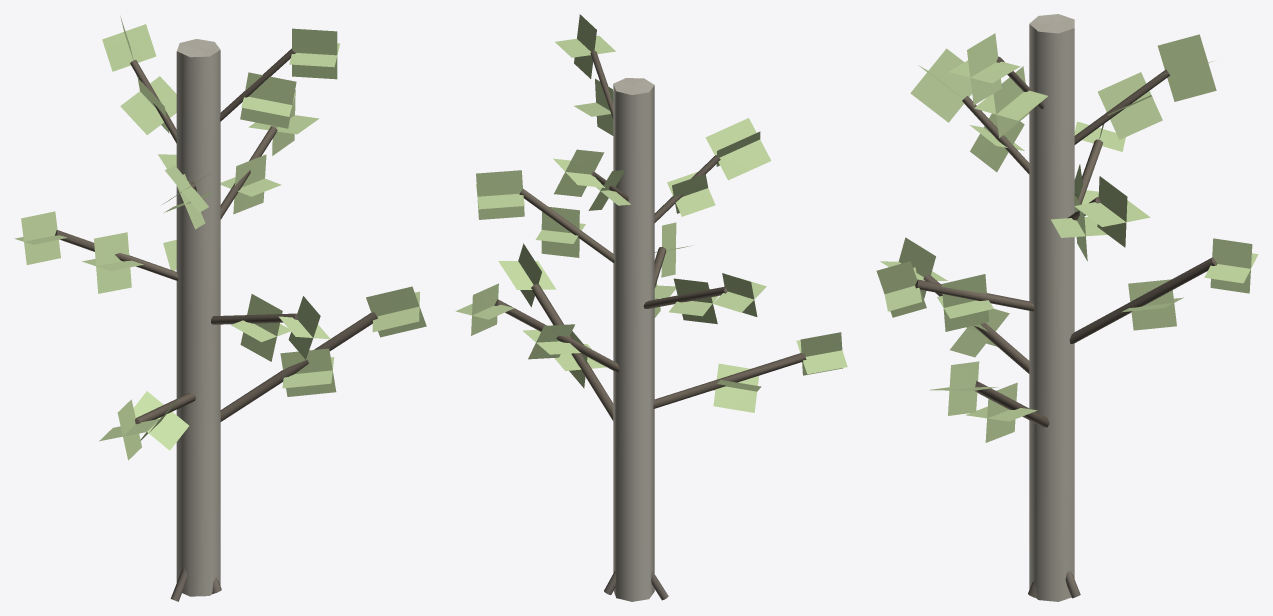
The model's file is small-lod2.glb.
The picture shows the model from 3 angles, left to right: view 1: azimuth 30°, elevation 25°; view 2: azimuth 150°, elevation 25°; view 3: azimuth 270°, elevation 25°; orthographic projection. The views are drawn at different scales.
Parts seen in each view (by area): view 1: birch-bark-branches-buried-roots-ground-blend, birch-leaf-sprays; view 2: birch-bark-branches-buried-roots-ground-blend, birch-leaf-sprays; view 3: birch-bark-branches-buried-roots-ground-blend, birch-leaf-sprays.
Part boxes in pixels (<box>): birch-bark-branches-buried-roots-ground-blend: <box>55,39,377,601</box>; birch-leaf-sprays: <box>14,16,426,460</box>; birch-bark-branches-buried-roots-ground-blend: <box>494,51,806,601</box>; birch-leaf-sprays: <box>455,14,847,412</box>; birch-bark-branches-buried-roots-ground-blend: <box>915,14,1217,601</box>; birch-leaf-sprays: <box>876,33,1258,442</box>.
Size of the model in its own units: 7.27 by 11.37 by 6.59.
